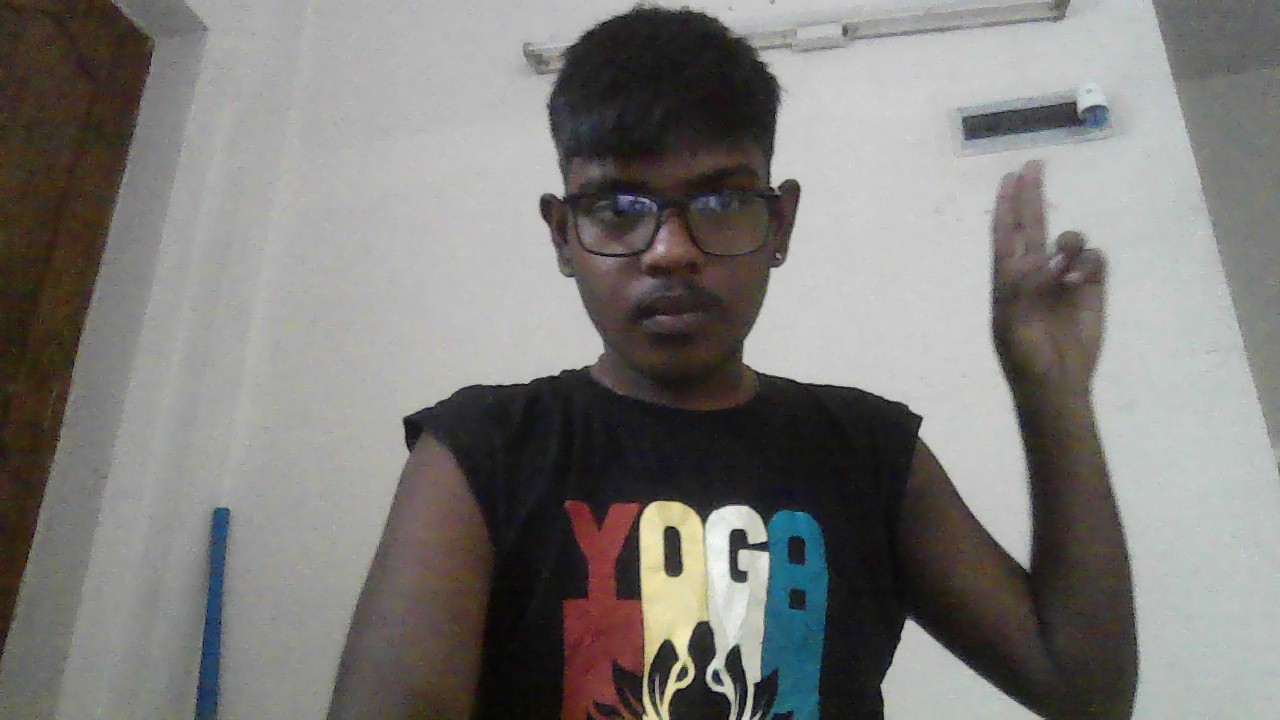U: (990, 158, 1106, 394)
